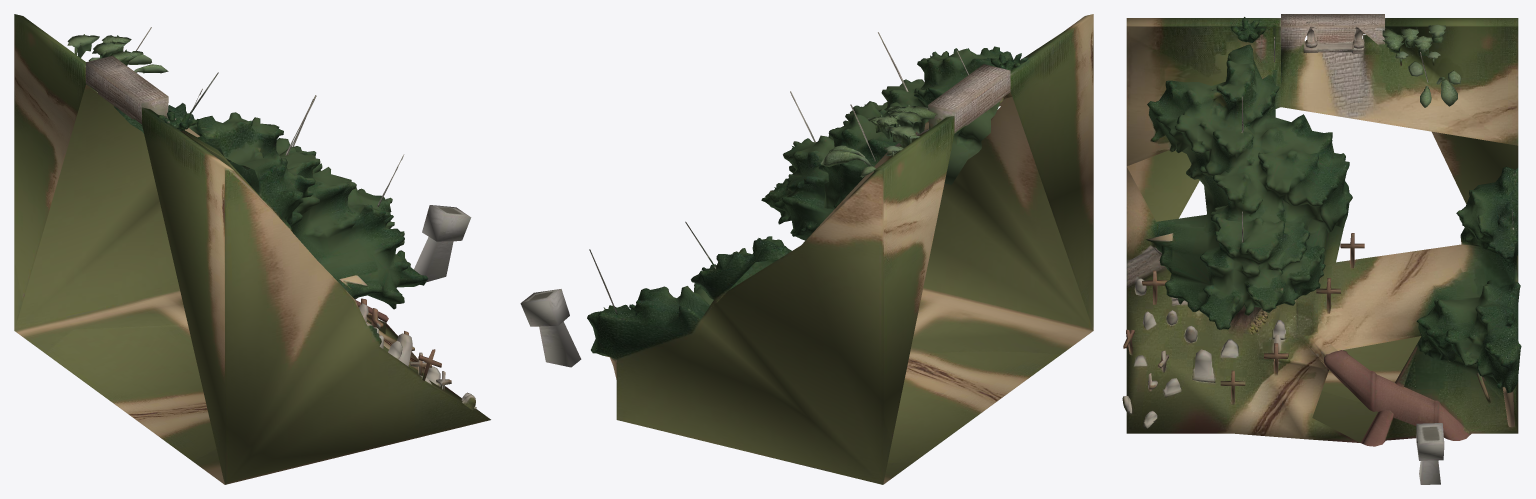
The model's file is graveyard.glb.
3 renders of one model, left to right at view 1: azimuth 30°, elevation 25°; view 2: azimuth 150°, elevation 25°; view 3: azimuth 270°, elevation 25°, orthographic. The views are drawn at different scales.
Parts seen in each view (by area): view 1: tripo_node_45ec4313-4555-40a4-b1ed-0d3103c0e1d1; view 2: tripo_node_45ec4313-4555-40a4-b1ed-0d3103c0e1d1; view 3: tripo_node_45ec4313-4555-40a4-b1ed-0d3103c0e1d1.
Part boxes in pixels (x1=…): tripo_node_45ec4313-4555-40a4-b1ed-0d3103c0e1d1: x1=14, y1=14, x2=490, y2=484; tripo_node_45ec4313-4555-40a4-b1ed-0d3103c0e1d1: x1=520, y1=14, x2=1093, y2=484; tripo_node_45ec4313-4555-40a4-b1ed-0d3103c0e1d1: x1=1122, y1=14, x2=1521, y2=484.
Bounding box in the file's own units: 1.3 × 1 × 1.2.
Materials: 1 (1 with a texture image).
